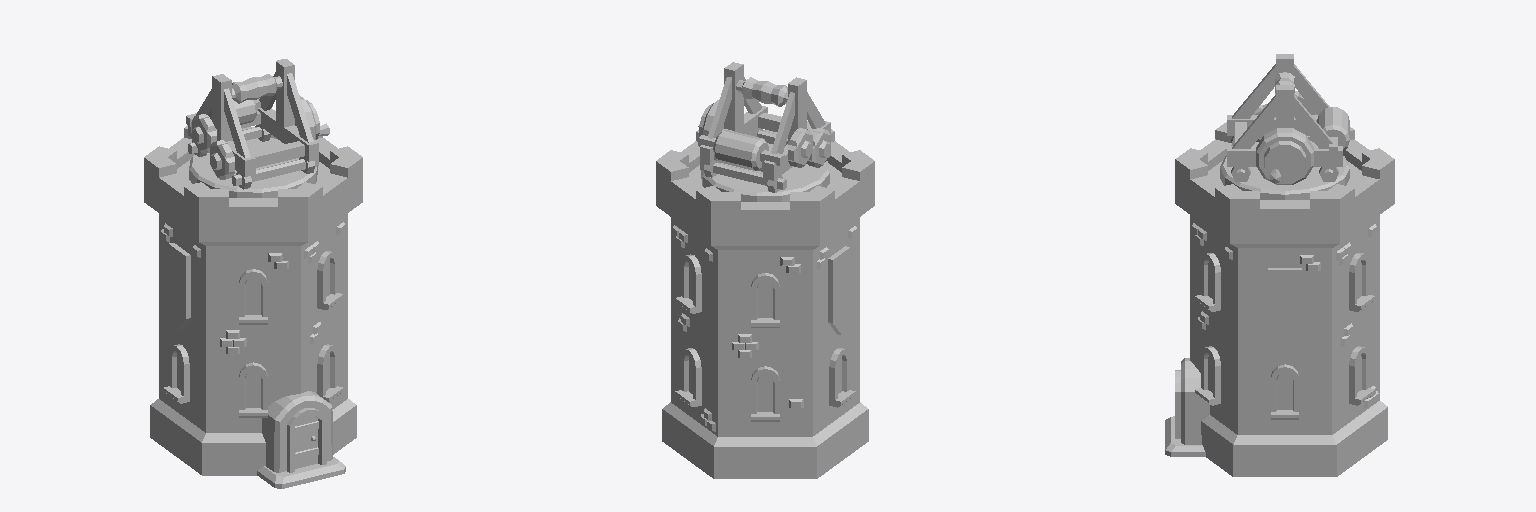
File: AOETower_lvl3.obj
3 renders of one model, left to right at view 1: azimuth 30°, elevation 25°; view 2: azimuth 150°, elevation 25°; view 3: azimuth 270°, elevation 25°, orthographic.
Visible parts, largest first — view 1: building_tower_catapult_red; view 2: building_tower_catapult_red; view 3: building_tower_catapult_red.
Part boxes in pixels (x1,y1,x2,y2): building_tower_catapult_red: (144, 59, 362, 488); building_tower_catapult_red: (656, 62, 874, 478); building_tower_catapult_red: (1165, 54, 1394, 476).
Bounding box in the file's own units: 0.9298 × 1.96 × 1.11.